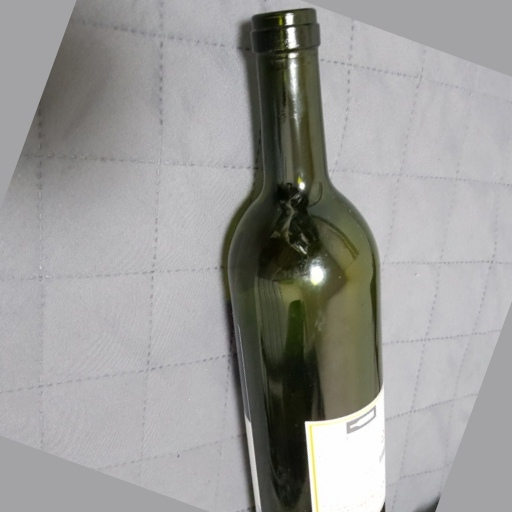Glass_2: (222, 9, 394, 512)
